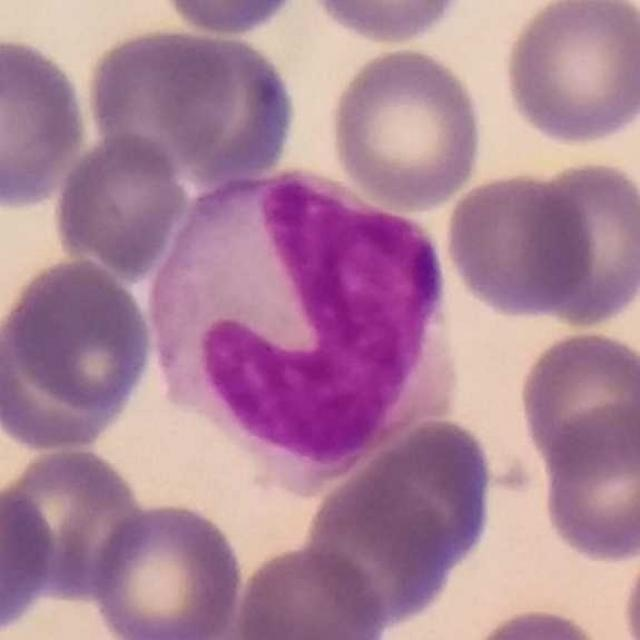mono: (148, 164, 462, 497)
